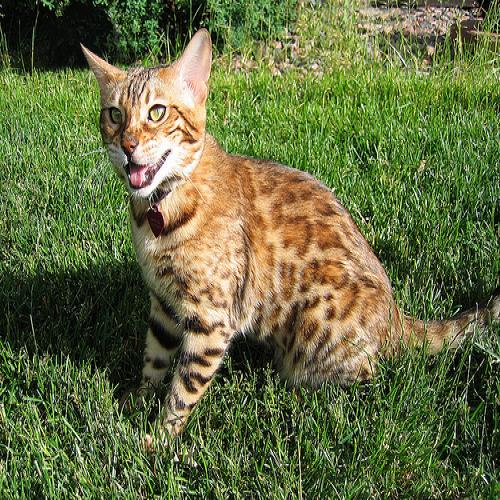cat-face: (77, 31, 216, 206)
